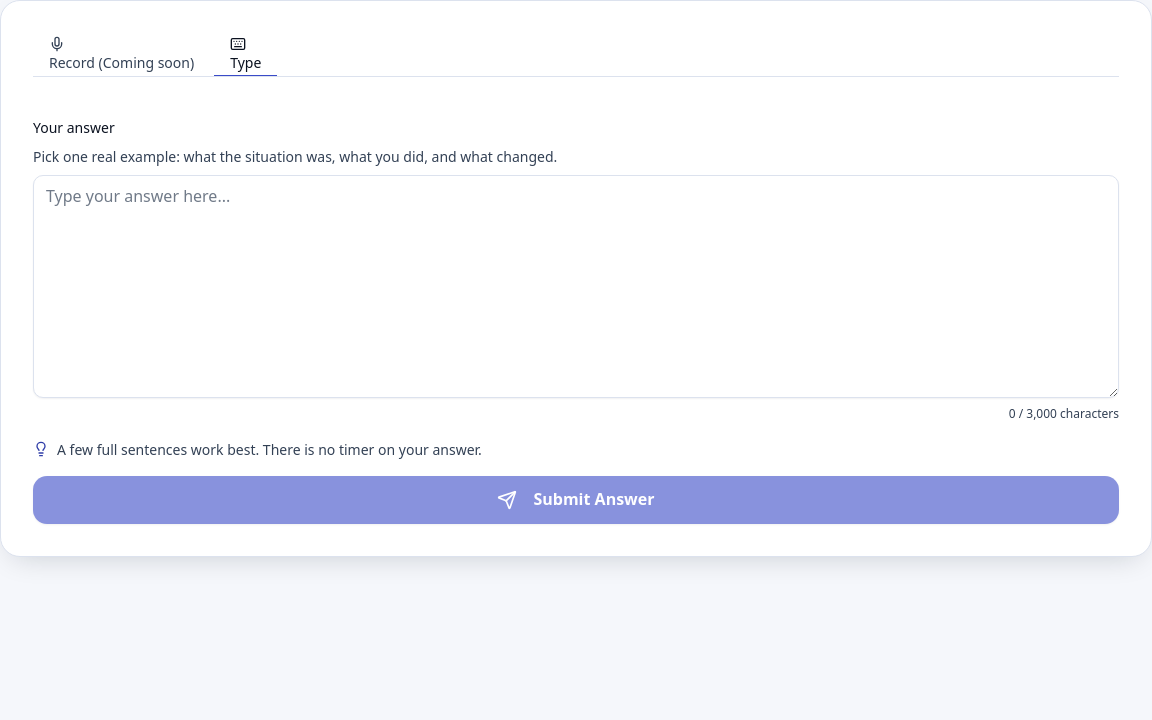
Scenario: AnswerPanel › keeps submit disabled until the typed answer reaches the minimum length
Click the tab "Type" at (246, 55), box [214,33,277,77]
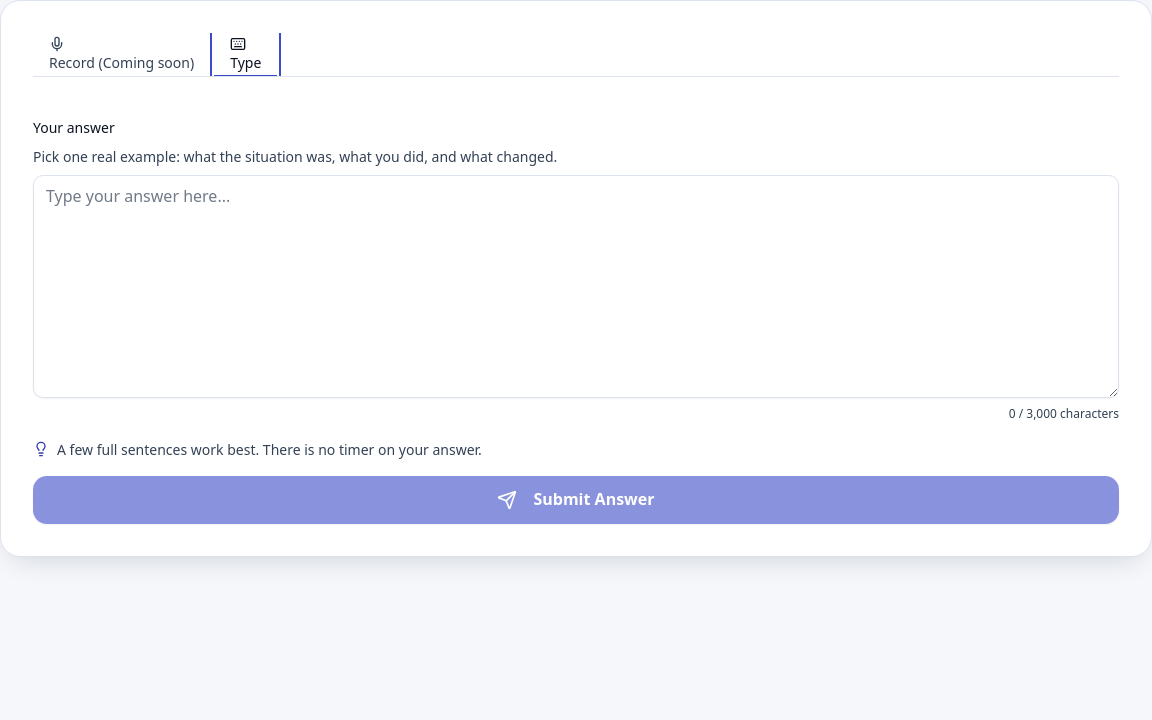
Expected: the button "Submit Answer" is disabled, [33,476,1119,524]
Type "too short" into the text box labelled "Your answer" at (576, 286), box [33,175,1119,398]
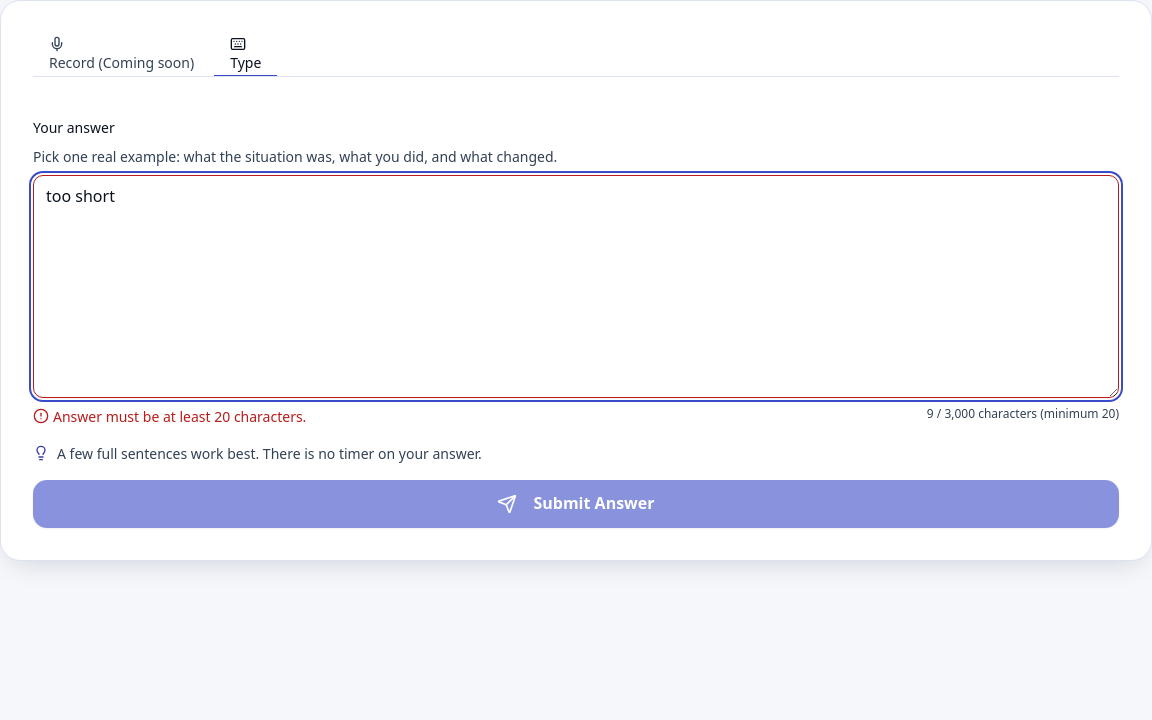
Expected: the button "Submit Answer" is disabled, [33,480,1119,528]
Expected: the text "Answer must be at least 20 characters." is shown, [53,406,306,427]
